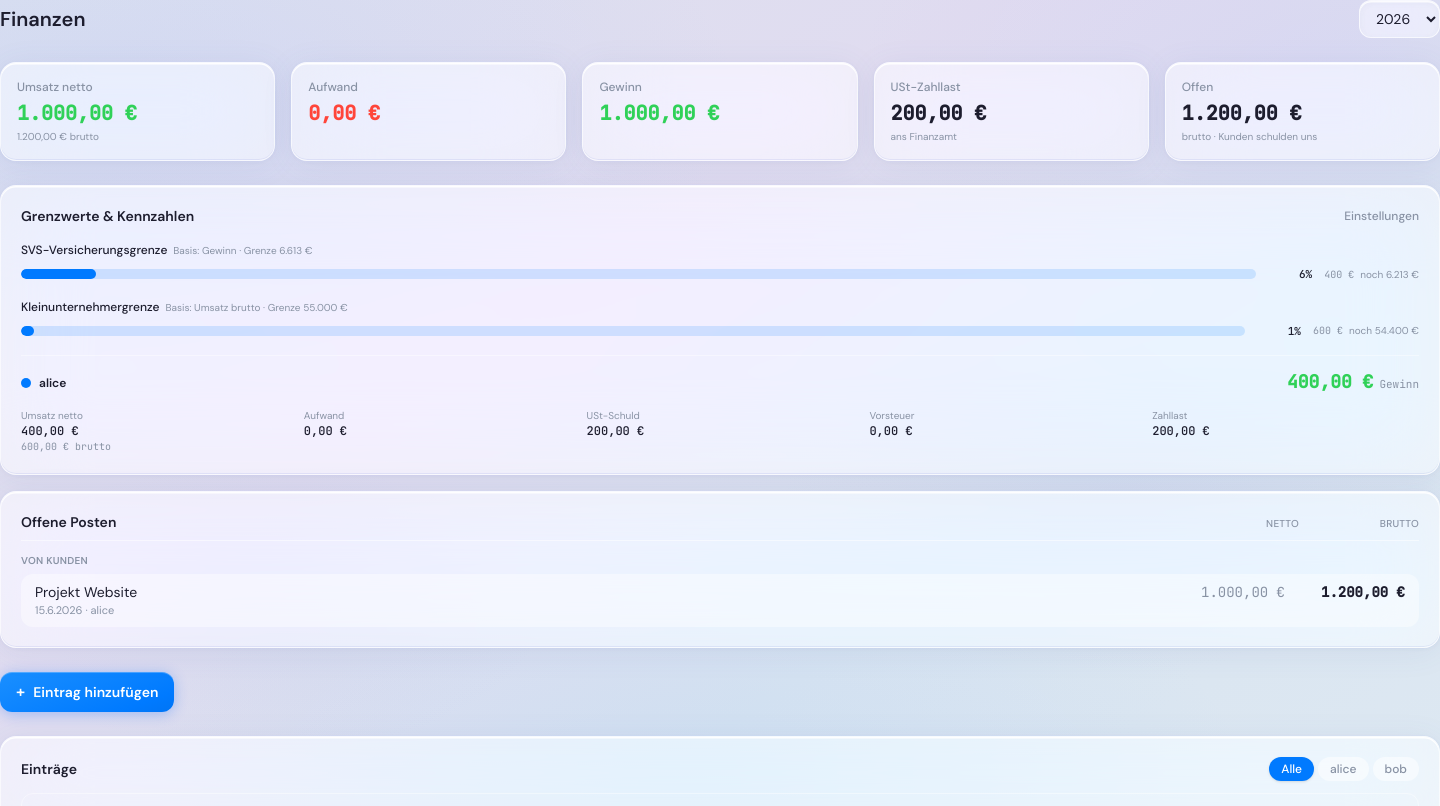
Test: FinancePage › rechnet Brutto standardmäßig in Netto und USt auf
Click the button "+ Eintrag hinzufügen" at (87, 692), box x1=0 y1=672 x2=174 y2=712
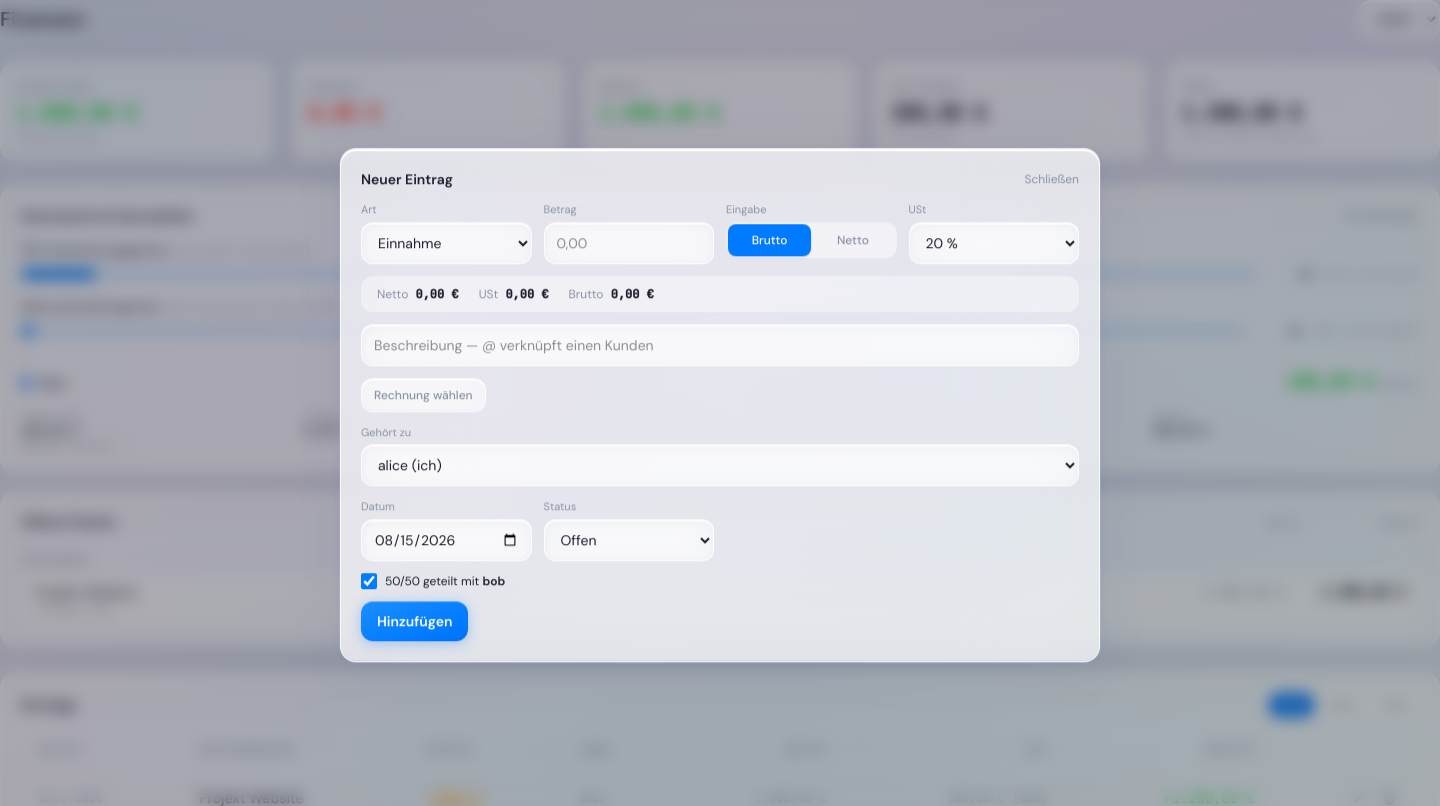
Check: the number field labelled "Betrag" is shown
Type "120" into the number field labelled "Betrag" at (629, 243), box x1=544 y1=222 x2=714 y2=264
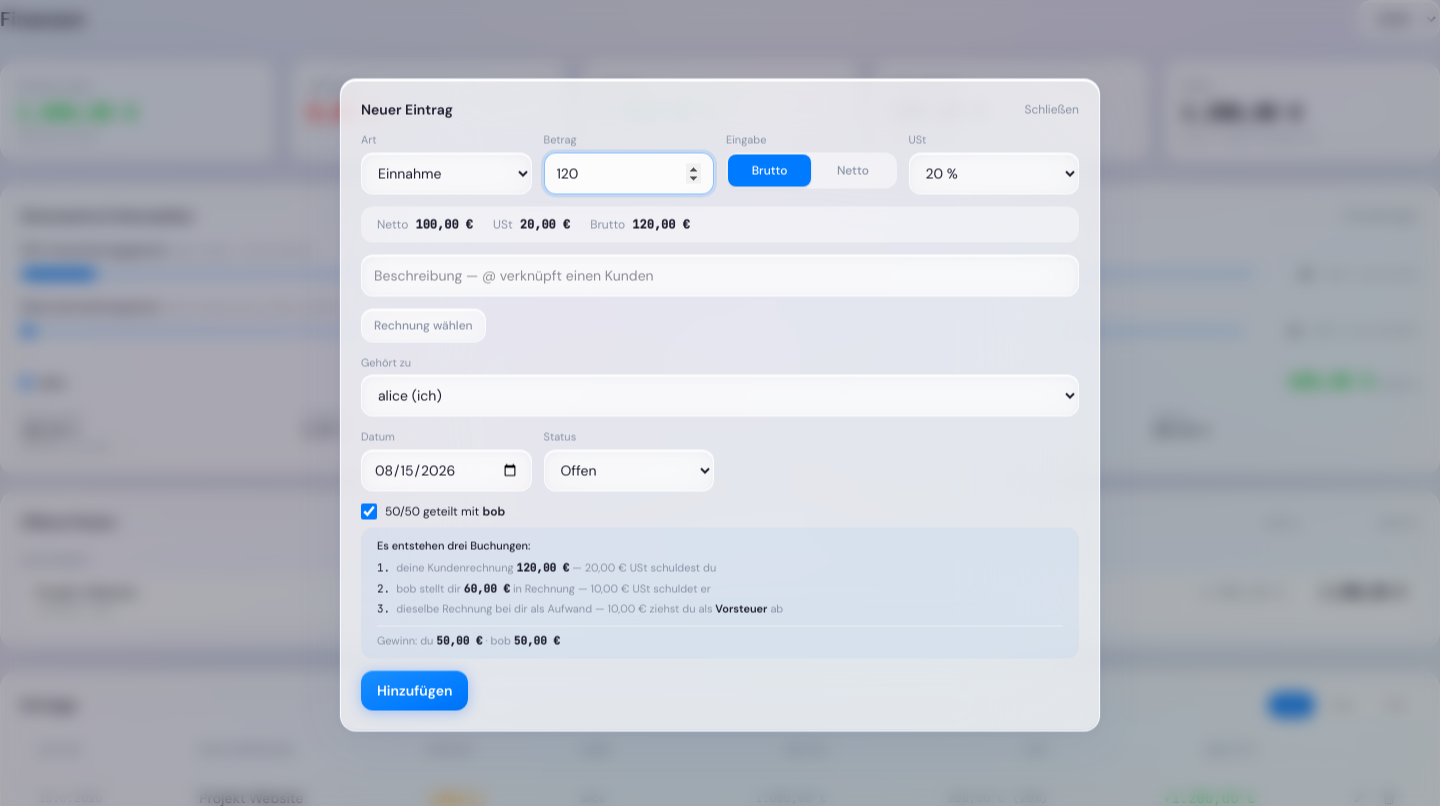
Check: the text "100,00 €" is shown, box x1=416 y1=216 x2=473 y2=232
Check: the text "20,00 €" is shown, box x1=520 y1=216 x2=570 y2=232
